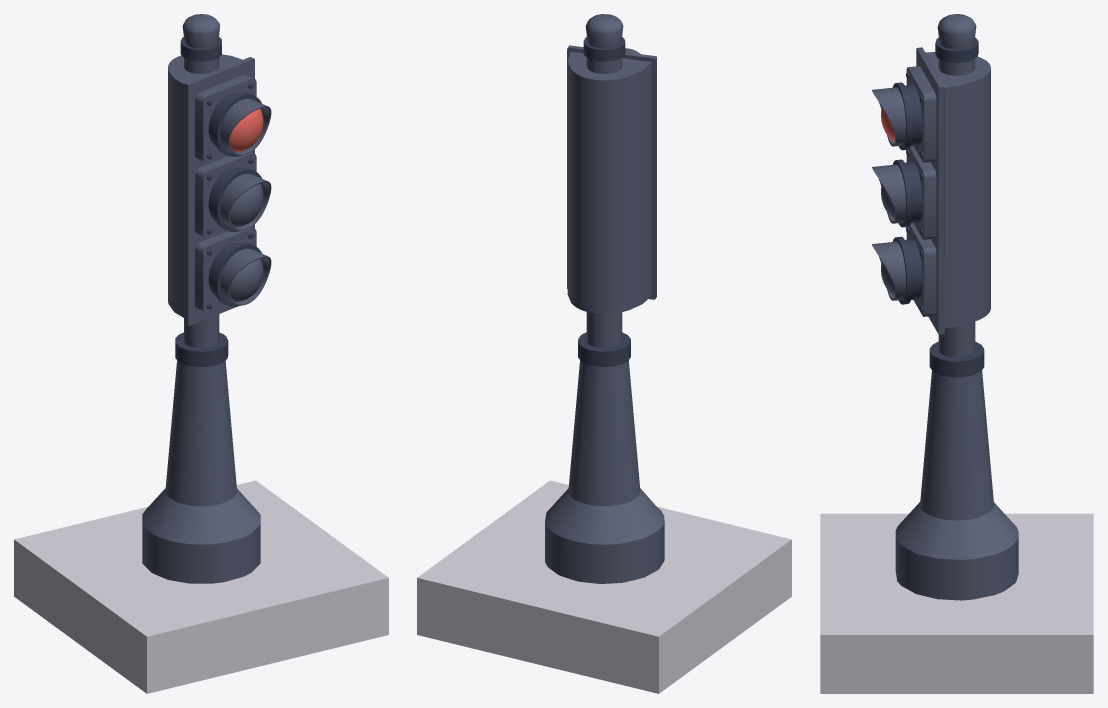
Rendered from concrete_traffic_light.fbx.
The picture shows the model from 3 angles, left to right: view 1: azimuth 30°, elevation 25°; view 2: azimuth 150°, elevation 25°; view 3: azimuth 270°, elevation 25°; orthographic projection. The views are drawn at different scales.
Visible parts, largest first — view 1: Cube.041, traffic light base, board, up light, middle light, down light; view 2: Cube.041, board, traffic light base; view 3: Cube.041, traffic light base, board, up light, middle light, down light.
Boxes of the visible parts, x1=… form: Cube.041: x1=14, y1=480, x2=388, y2=693; traffic light base: x1=142, y1=14, x2=260, y2=583; board: x1=168, y1=54, x2=254, y2=325; up light: x1=195, y1=74, x2=271, y2=163; middle light: x1=195, y1=152, x2=271, y2=238; down light: x1=195, y1=227, x2=271, y2=313; Cube.041: x1=417, y1=480, x2=791, y2=693; board: x1=567, y1=45, x2=656, y2=314; traffic light base: x1=545, y1=14, x2=664, y2=583; Cube.041: x1=820, y1=513, x2=1093, y2=693; traffic light base: x1=895, y1=14, x2=1018, y2=600; board: x1=916, y1=47, x2=990, y2=334; up light: x1=872, y1=66, x2=936, y2=162; middle light: x1=872, y1=145, x2=936, y2=239; down light: x1=872, y1=223, x2=936, y2=316.
Bounding box in the file's own units: 107 × 254 × 102.
